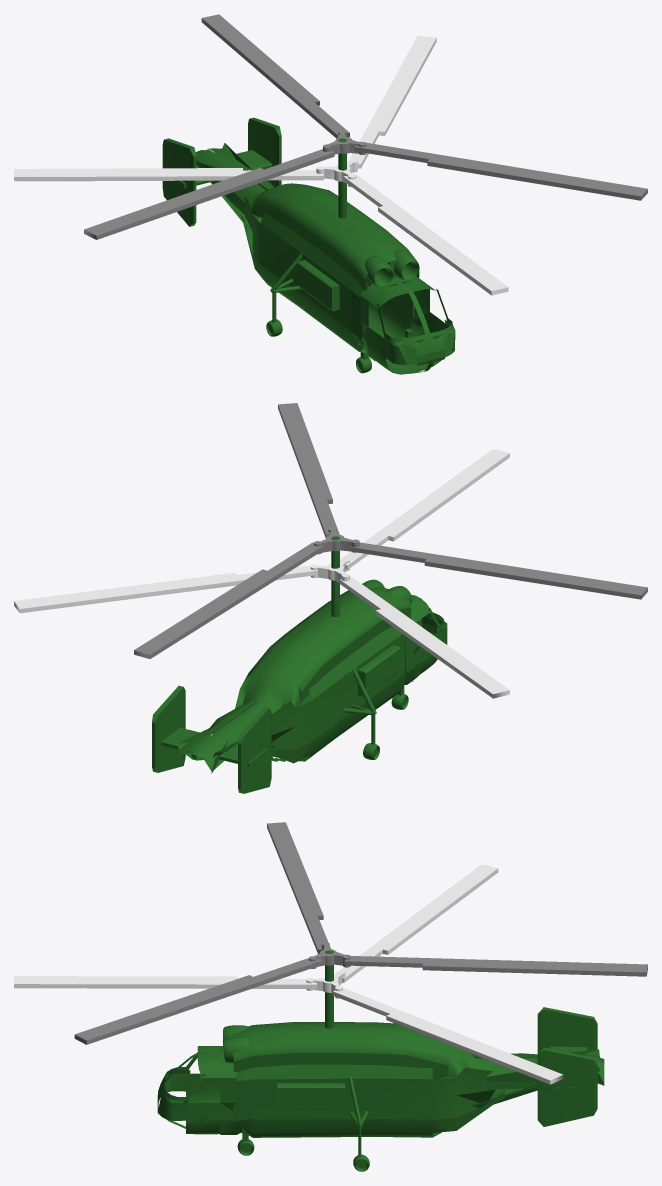
Rendered from helicopter_d1334f00.glb.
The picture shows the model from 3 angles, top to bottom: view 1: azimuth 30°, elevation 25°; view 2: azimuth 150°, elevation 25°; view 3: azimuth 270°, elevation 25°; orthographic projection. The views are drawn at different scales.
Visible parts, largest first — view 1: fuselage, topPropeller, bottomPropeller; view 2: fuselage, topPropeller, bottomPropeller; view 3: fuselage, topPropeller, bottomPropeller.
Boxes of the visible parts, x1=… form: fuselage: x1=162, y1=117, x2=455, y2=374; topPropeller: x1=84, y1=14, x2=647, y2=239; bottomPropeller: x1=14, y1=35, x2=508, y2=295; fuselage: x1=152, y1=536, x2=447, y2=793; topPropeller: x1=134, y1=403, x2=647, y2=658; bottomPropeller: x1=14, y1=449, x2=509, y2=698; fuselage: x1=157, y1=950, x2=604, y2=1171; topPropeller: x1=74, y1=822, x2=647, y2=1044; bottomPropeller: x1=14, y1=864, x2=563, y2=1084.
Size of the model in its own units: 10.54 by 4.04 by 12.12.
